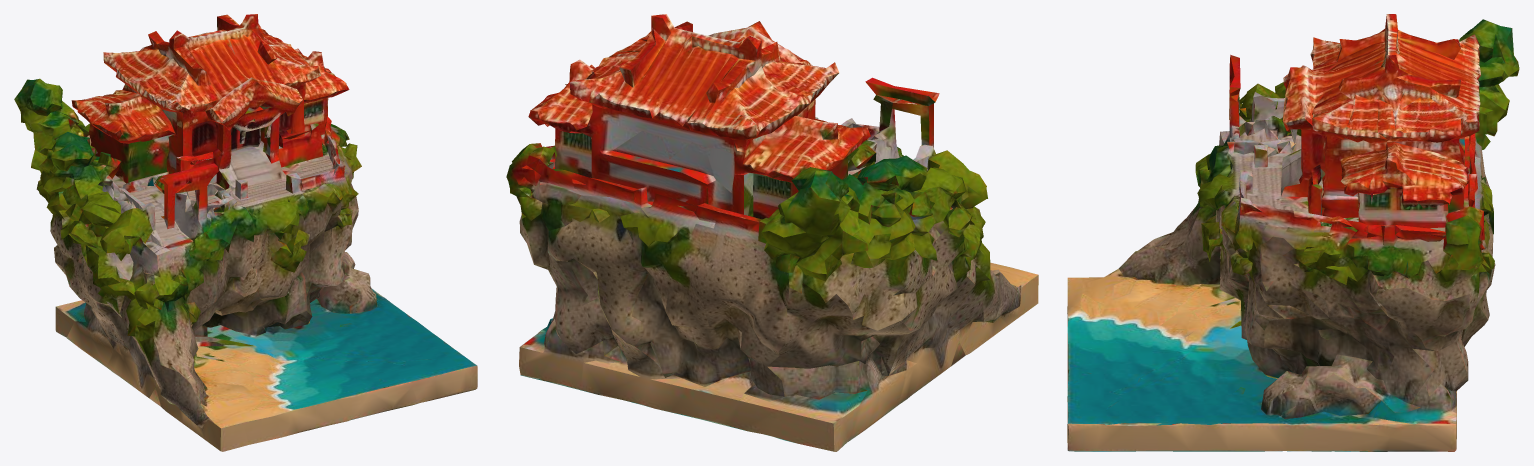
Rendered from naminoue-shrine.glb.
3 renders of one model, left to right at view 1: azimuth 30°, elevation 25°; view 2: azimuth 150°, elevation 25°; view 3: azimuth 270°, elevation 25°, orthographic. The views are drawn at different scales.
Visible parts, largest first — view 1: logan-textured.obj; view 2: logan-textured.obj; view 3: logan-textured.obj.
Part boxes in pixels (x1,y1,x2,y2): logan-textured.obj: (14,14,477,451); logan-textured.obj: (506,14,1038,451); logan-textured.obj: (1067,14,1519,451).
Bounding box in the file's own units: 0.9217 × 0.8465 × 1.
Materials: 1 (1 with a texture image).
